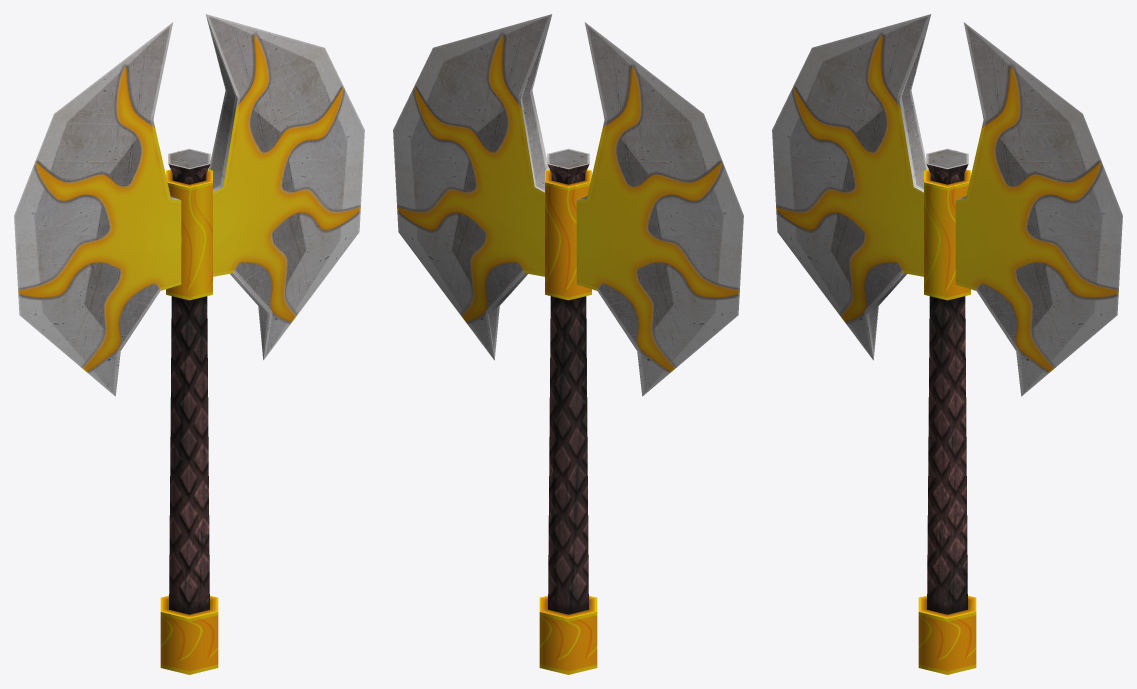
The model's file is axe05_magic.FBX.
The picture shows the model from 3 angles, left to right: view 1: azimuth 30°, elevation 25°; view 2: azimuth 150°, elevation 25°; view 3: azimuth 330°, elevation 25°; orthographic projection.
Parts seen in each view (by area): view 1: axe05; view 2: axe05; view 3: axe05.
Part boxes in pixels (x1,y1,x2,y2): axe05: (14,14,364,674); axe05: (393,14,743,674); axe05: (772,14,1122,674).
Bounding box in the file's own units: 0.8831 × 1.55 × 0.126.
